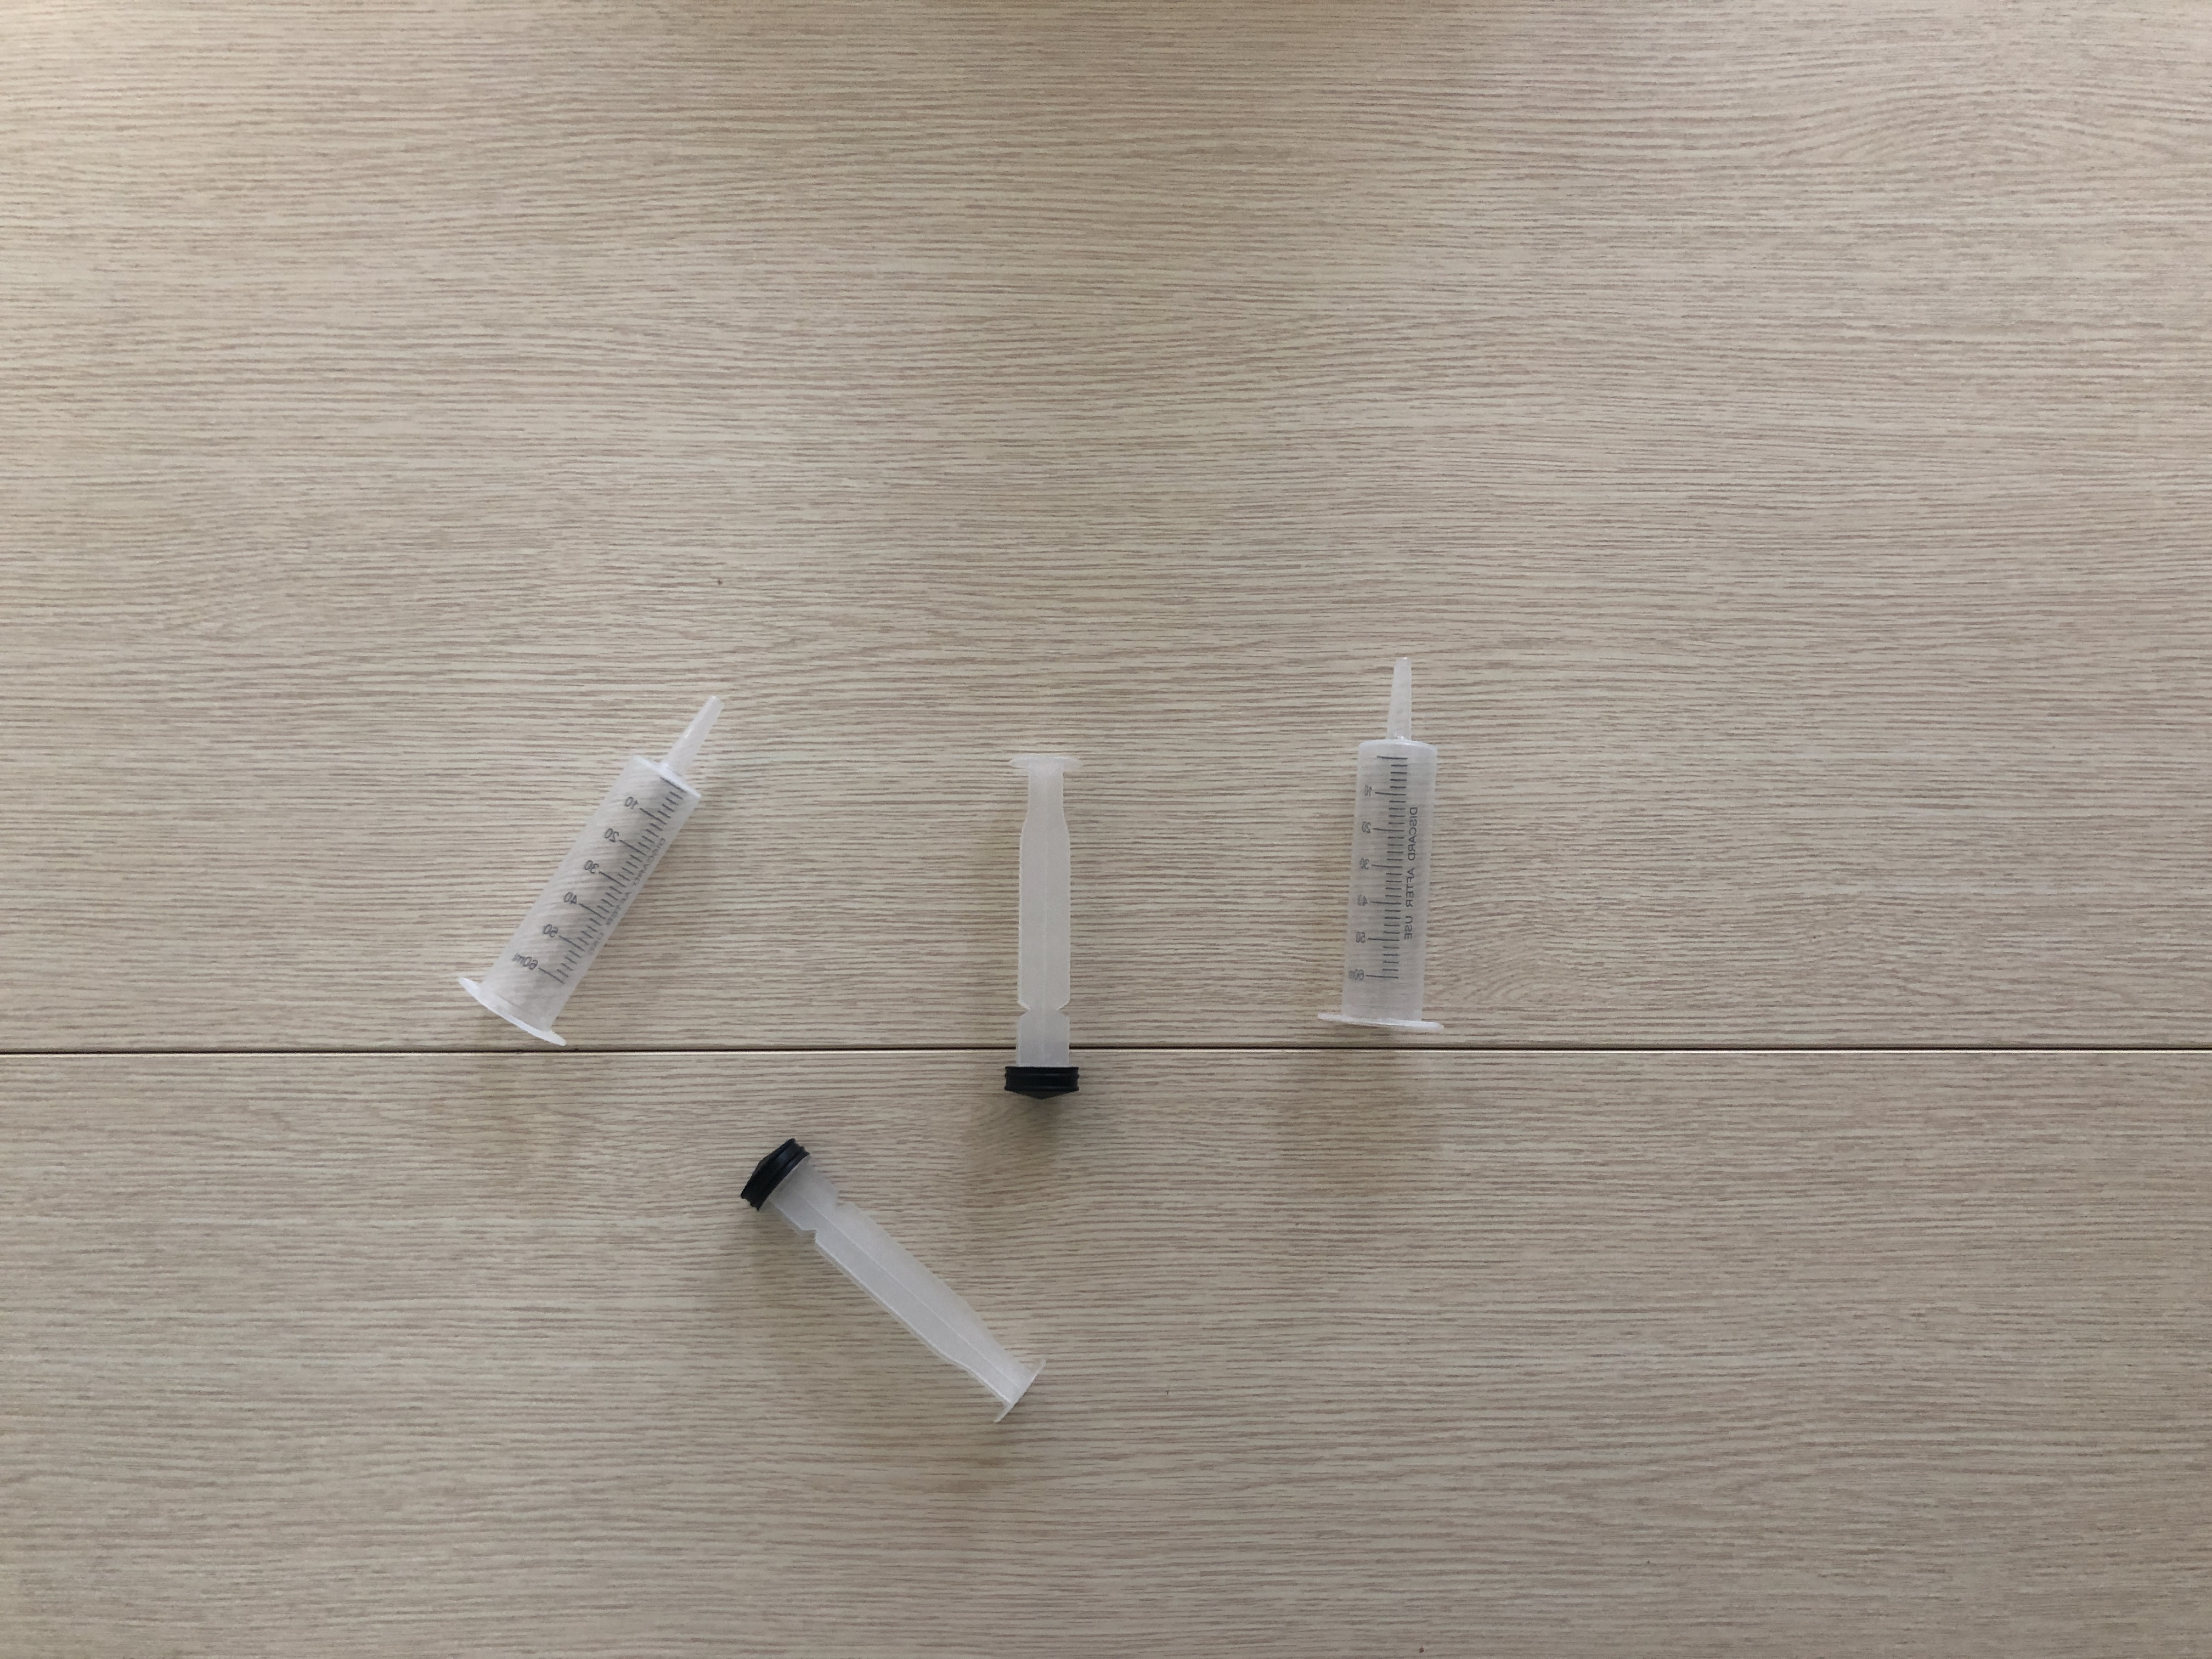plunger: (740, 1133, 1047, 1427), (996, 741, 1087, 1100)
syringe: (453, 694, 728, 1033), (1315, 655, 1449, 1032)
